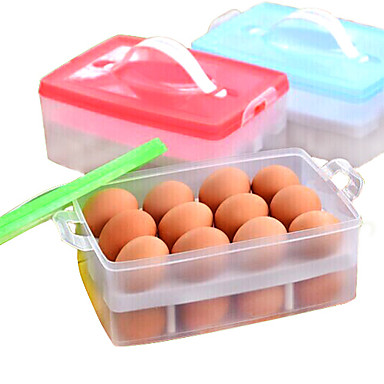egg: (78, 164, 340, 269)
